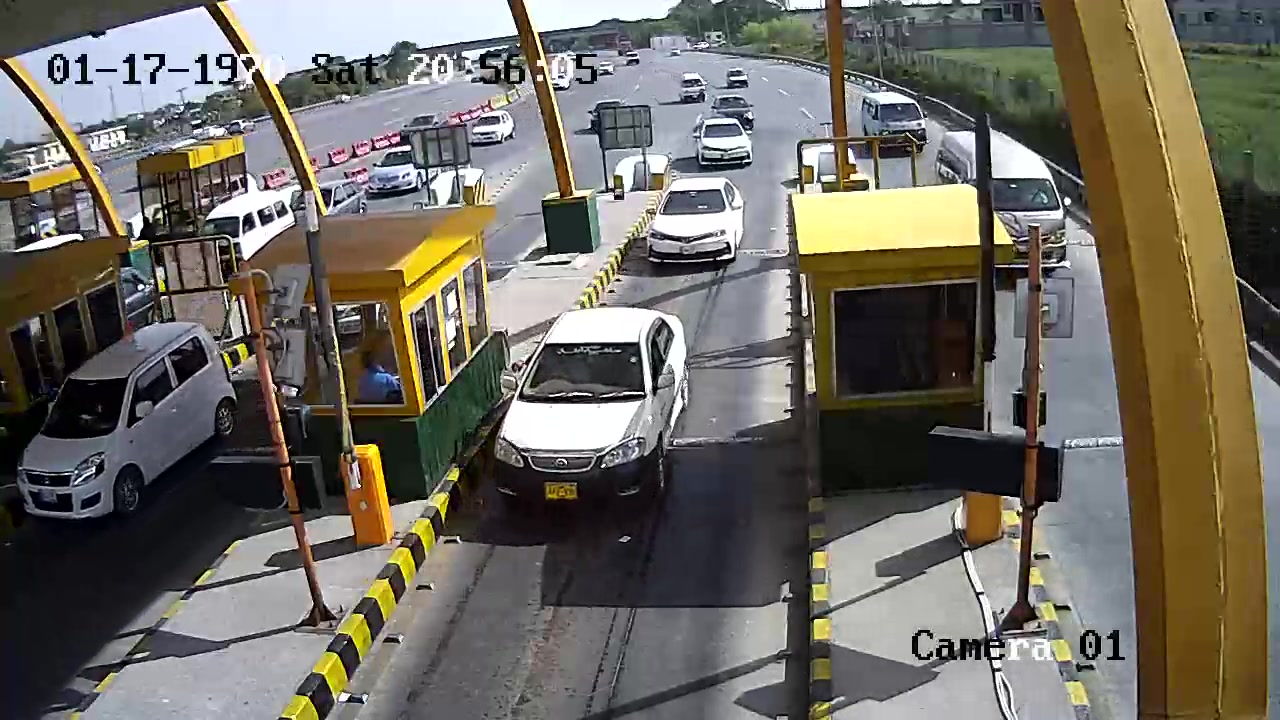F1: (497, 294, 693, 512), (639, 173, 753, 267)
